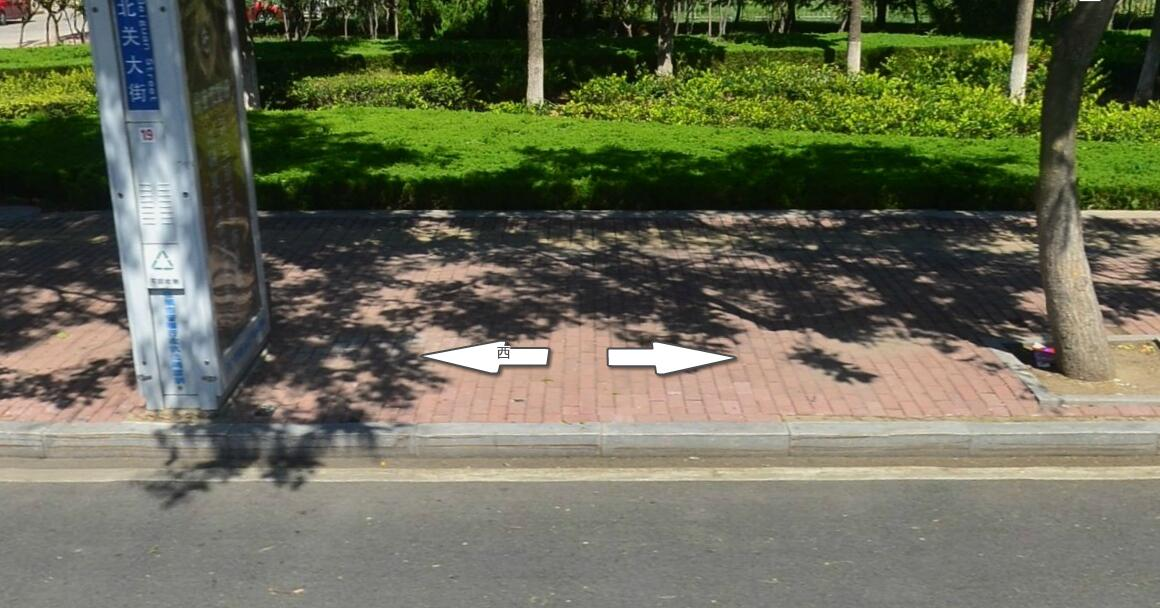side: (226, 424, 422, 464), (419, 422, 606, 460), (43, 423, 232, 460), (599, 424, 791, 459), (790, 422, 973, 458), (972, 423, 1160, 457)
